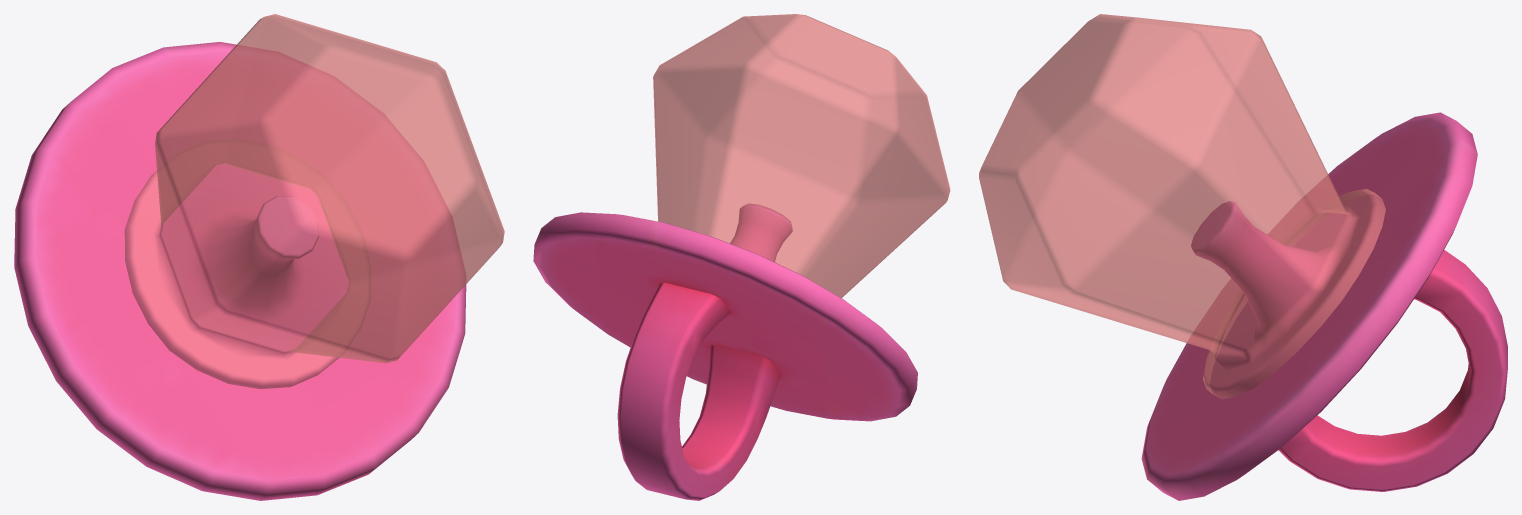
Rendered from ref_gtringcandy.glb.
The picture shows the model from 3 angles, left to right: view 1: azimuth 30°, elevation 25°; view 2: azimuth 150°, elevation 25°; view 3: azimuth 270°, elevation 25°; orthographic projection. The views are drawn at different scales.
Visible parts, largest first — view 1: ref_gtringcandy_part1, ref_gtringcandy_part0; view 2: ref_gtringcandy_part1, ref_gtringcandy_part0; view 3: ref_gtringcandy_part0, ref_gtringcandy_part1.
Boxes of the visible parts, bbox=[...] form: ref_gtringcandy_part1: bbox=[14, 42, 466, 500]; ref_gtringcandy_part0: bbox=[124, 14, 504, 388]; ref_gtringcandy_part1: bbox=[533, 203, 917, 500]; ref_gtringcandy_part0: bbox=[653, 14, 950, 298]; ref_gtringcandy_part0: bbox=[979, 14, 1385, 398]; ref_gtringcandy_part1: bbox=[1141, 112, 1507, 500].
Bounding box in the file's own units: 0.8976 × 0.962 × 1.
2 materials, 1 textured.
